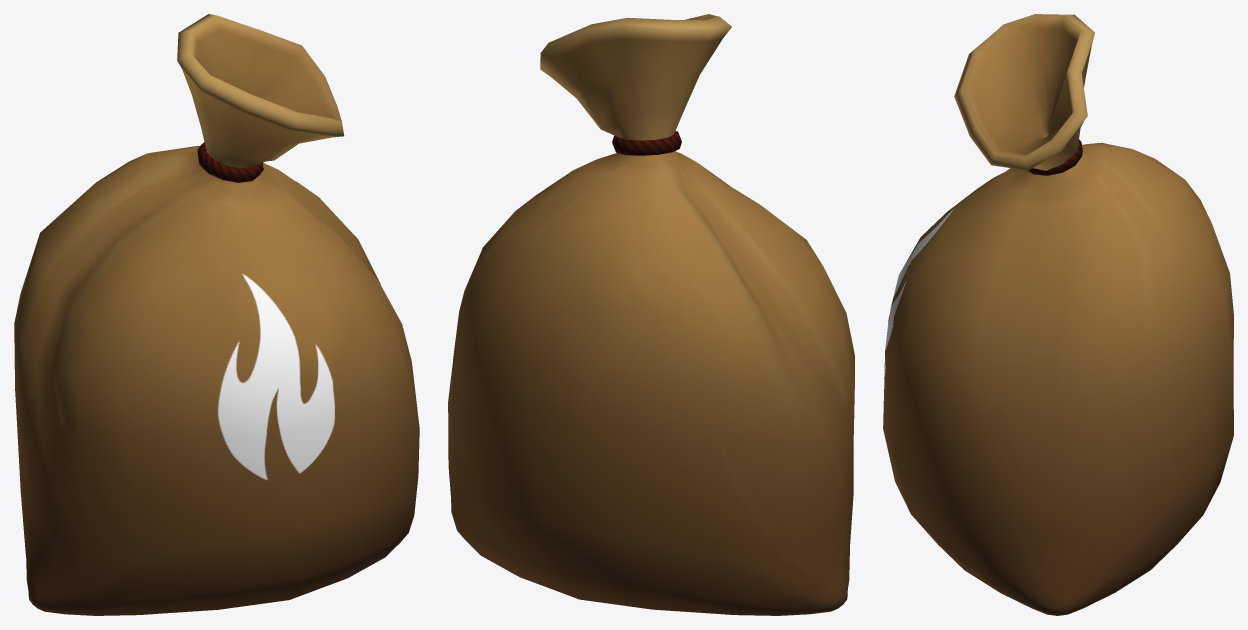
Rendered from money_bag_scaled_down.dae.
The picture shows the model from 3 angles, left to right: view 1: azimuth 30°, elevation 25°; view 2: azimuth 150°, elevation 25°; view 3: azimuth 270°, elevation 25°; orthographic projection. The views are drawn at different scales.
Parts seen in each view (by area): view 1: MoneyBag; view 2: MoneyBag; view 3: MoneyBag.
Boxes of the visible parts, x1,y1,x2,y2 form: MoneyBag: [14, 14, 419, 615]; MoneyBag: [448, 14, 854, 615]; MoneyBag: [883, 14, 1233, 615].
Bounding box in the file's own units: 0.4525 × 0.6279 × 0.3909.
1 material, 1 textured.
